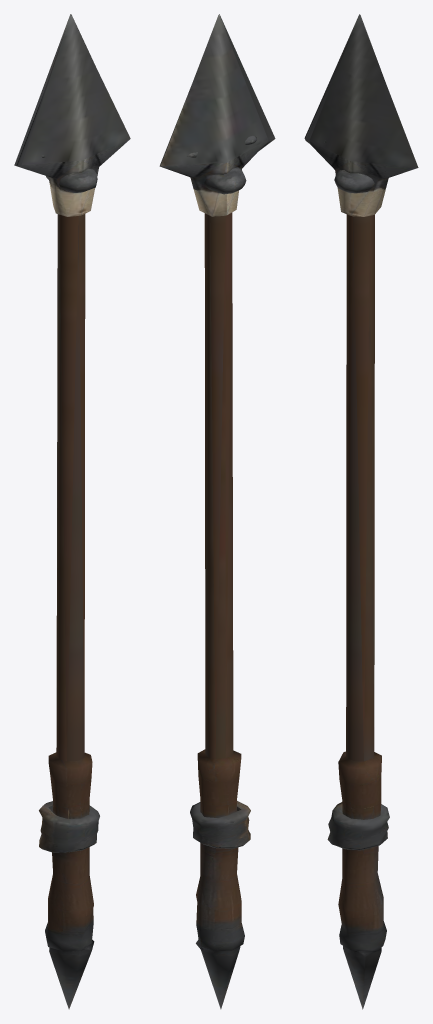
Rendered from harpoon.glb.
3 renders of one model, left to right at view 1: azimuth 30°, elevation 25°; view 2: azimuth 210°, elevation 25°; view 3: azimuth 330°, elevation 25°, orthographic.
Visible parts, largest first — view 1: harpoon; view 2: harpoon; view 3: harpoon.
Boxes of the visible parts, x1=… form: harpoon: x1=14, y1=14, x2=130, y2=1009; harpoon: x1=159, y1=14, x2=275, y2=1009; harpoon: x1=304, y1=14, x2=418, y2=1009.
Size of the model in its own units: 0.26 by 2.15 by 0.1324.
1 material, 1 textured.
